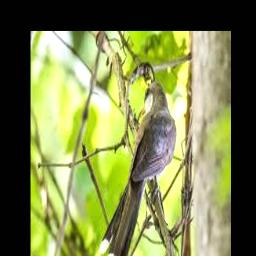Cuckoo: (98, 82, 177, 256)
